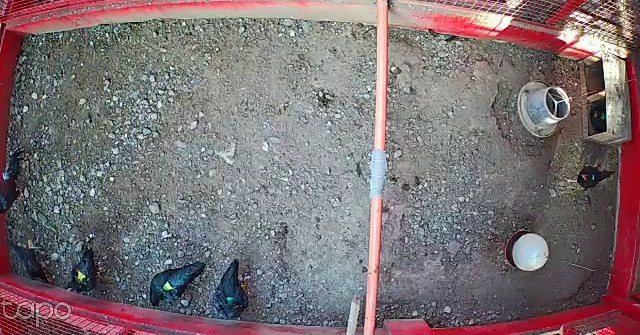Chicken: (213, 255, 258, 323), (146, 255, 203, 308), (7, 237, 58, 286), (65, 246, 99, 296), (563, 166, 615, 196)
Rooster: (0, 142, 33, 217)
Saddle_Color_Green: (226, 296, 236, 305)
Saddle_Color_Yellow: (78, 270, 87, 282)
Saddle_Color_YellowGreen: (163, 282, 174, 292)
